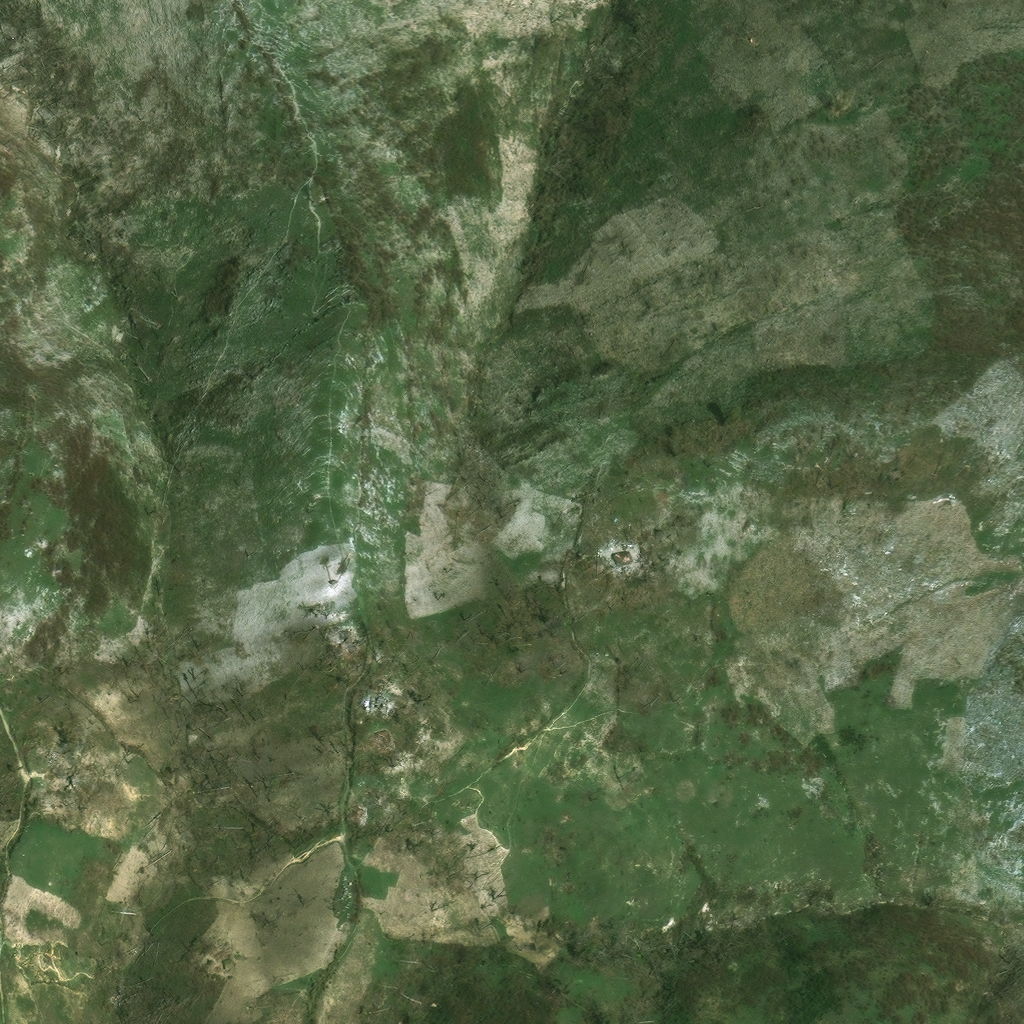destroyed: (324, 815, 345, 840), (348, 742, 366, 766), (342, 708, 363, 725), (602, 555, 623, 572), (357, 684, 371, 699), (329, 632, 342, 648), (28, 788, 41, 802), (627, 558, 637, 566), (318, 634, 325, 641)
minor_damage: (221, 952, 238, 968)
